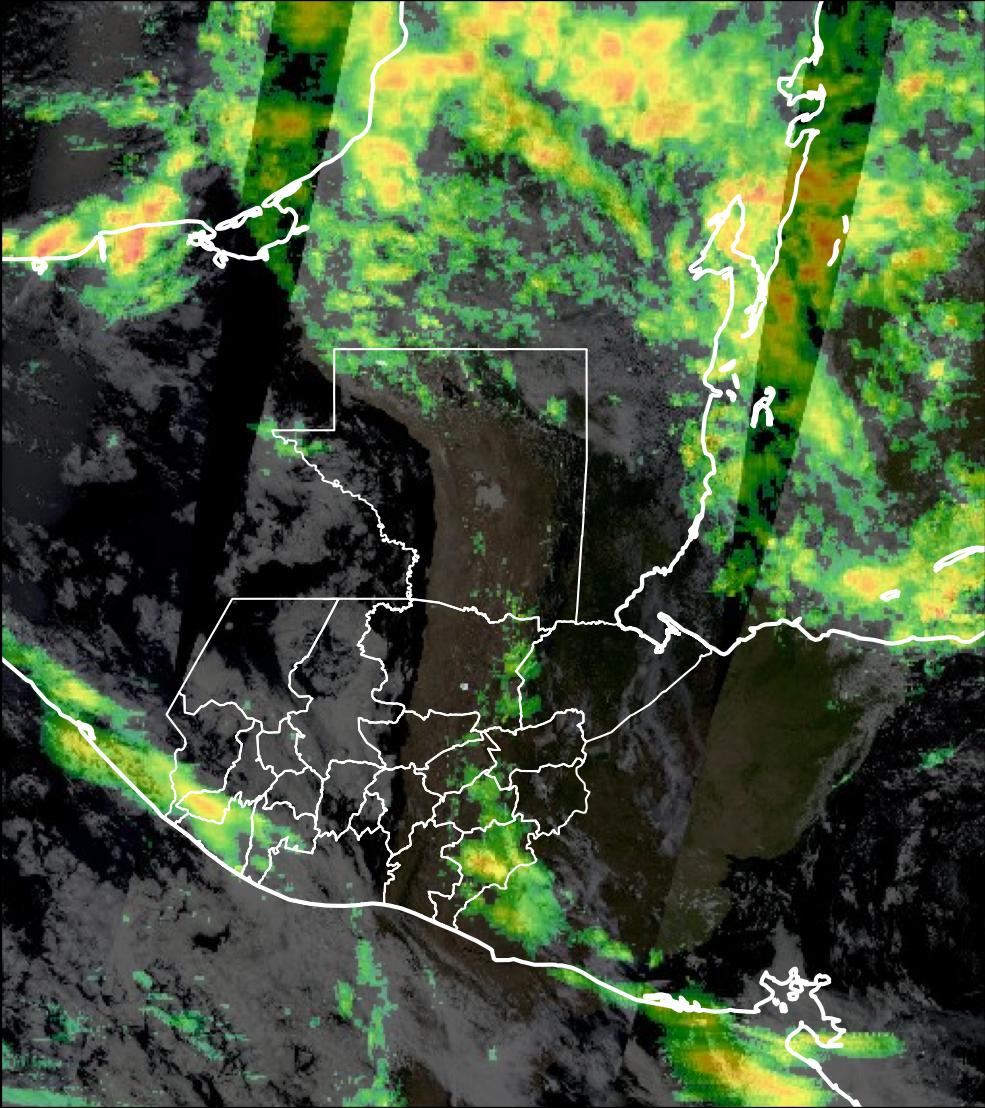precipitacion: (90, 188, 179, 266)
